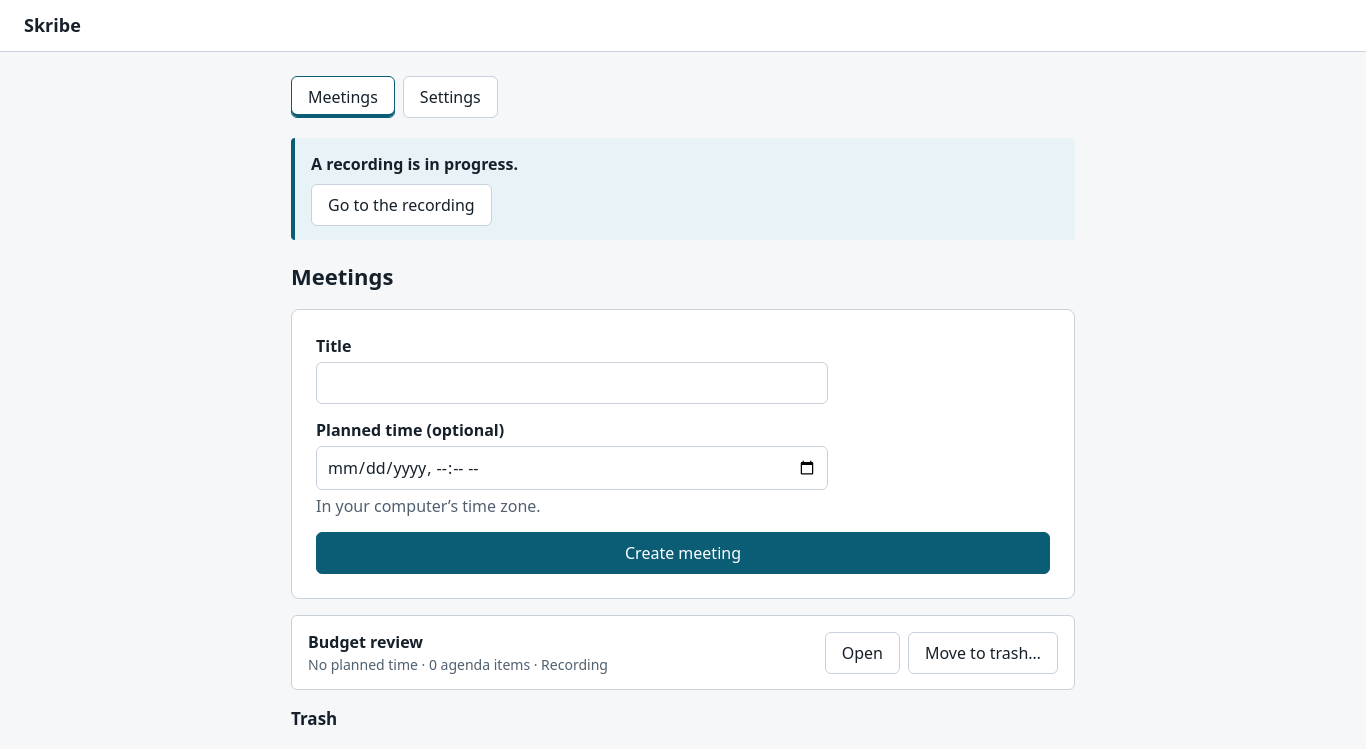
Test: a recording in progress is one step away from any page
Expected: the text "A recording is in progress." is shown, [311,153,518,175]
Click the button "Go to the recording" at {"x": 401, "y": 205}, box [311,184,492,226]
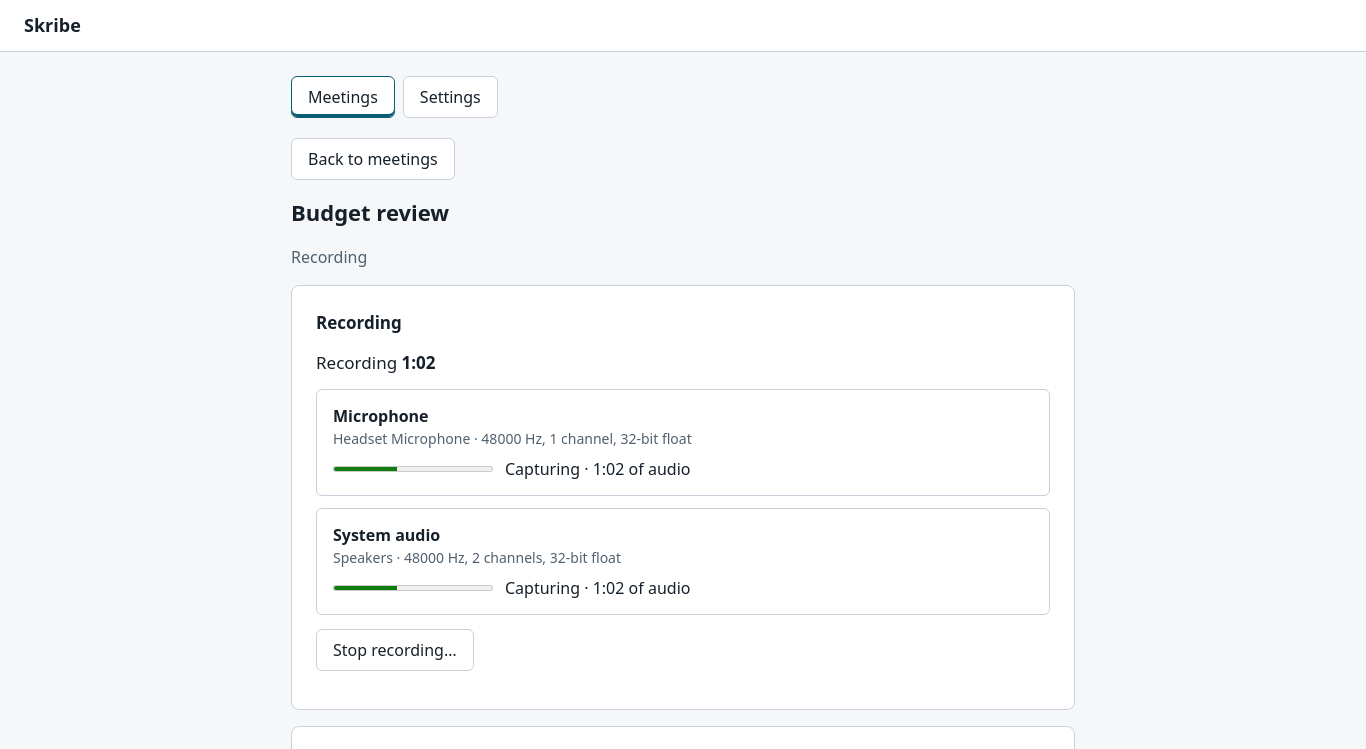
Expected: the list named "Tracks being recorded" is shown, [316,389,1050,615]
Expected: the text "A recording is in progress." is gone
